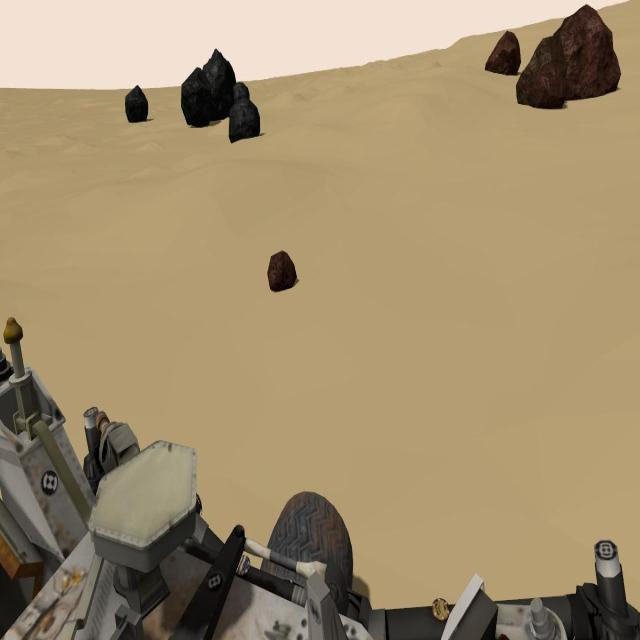rock: (554, 4, 621, 100), (517, 36, 567, 105), (202, 48, 236, 120), (182, 68, 212, 125), (486, 31, 520, 78), (529, 65, 565, 109), (229, 101, 259, 143), (268, 252, 298, 292), (125, 86, 149, 121), (232, 83, 250, 102)
